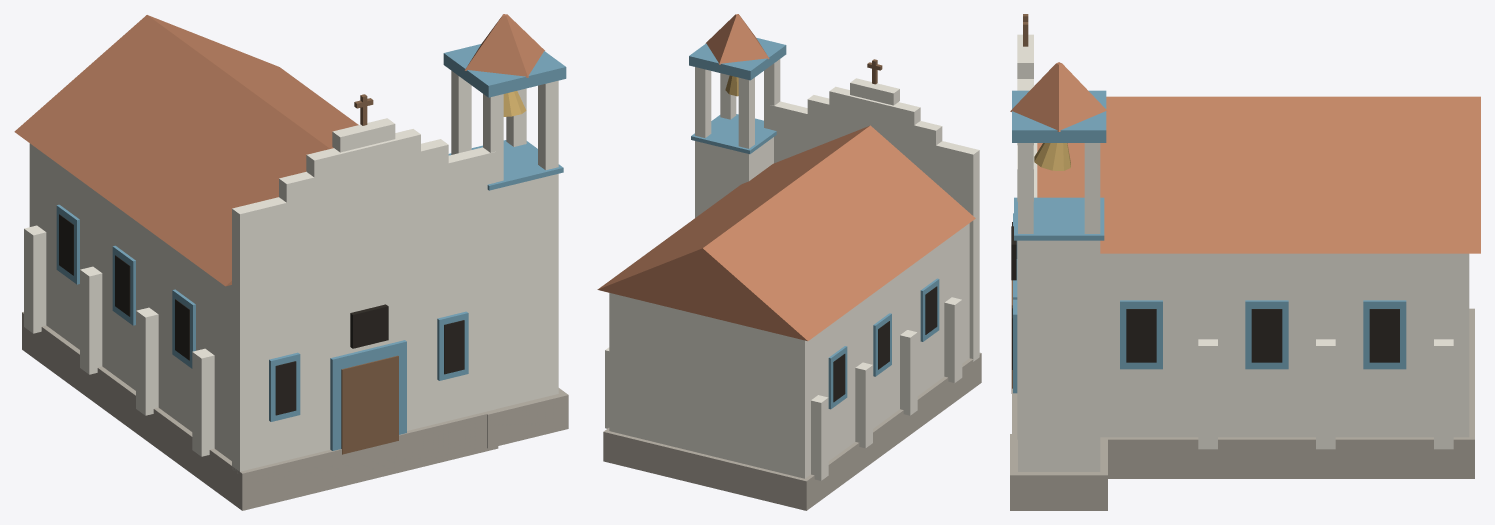
File: iglesia.glb
3 views of the same model, side by side, from view 1: azimuth 30°, elevation 25°; view 2: azimuth 150°, elevation 25°; view 3: azimuth 270°, elevation 25° (orthographic). The views are drawn at different scales.
Visible parts, largest first — view 1: FG_Iglesia; view 2: FG_Iglesia; view 3: FG_Iglesia, FG_Iglesia_Campana.
Part boxes in pixels (<box>): FG_Iglesia: <box>14,14,568,510</box>; FG_Iglesia: <box>597,14,981,510</box>; FG_Iglesia: <box>1010,14,1480,510</box>; FG_Iglesia_Campana: <box>1034,143,1070,170</box>.
Size of the model in its own units: 10.3 by 12.1 by 12.
